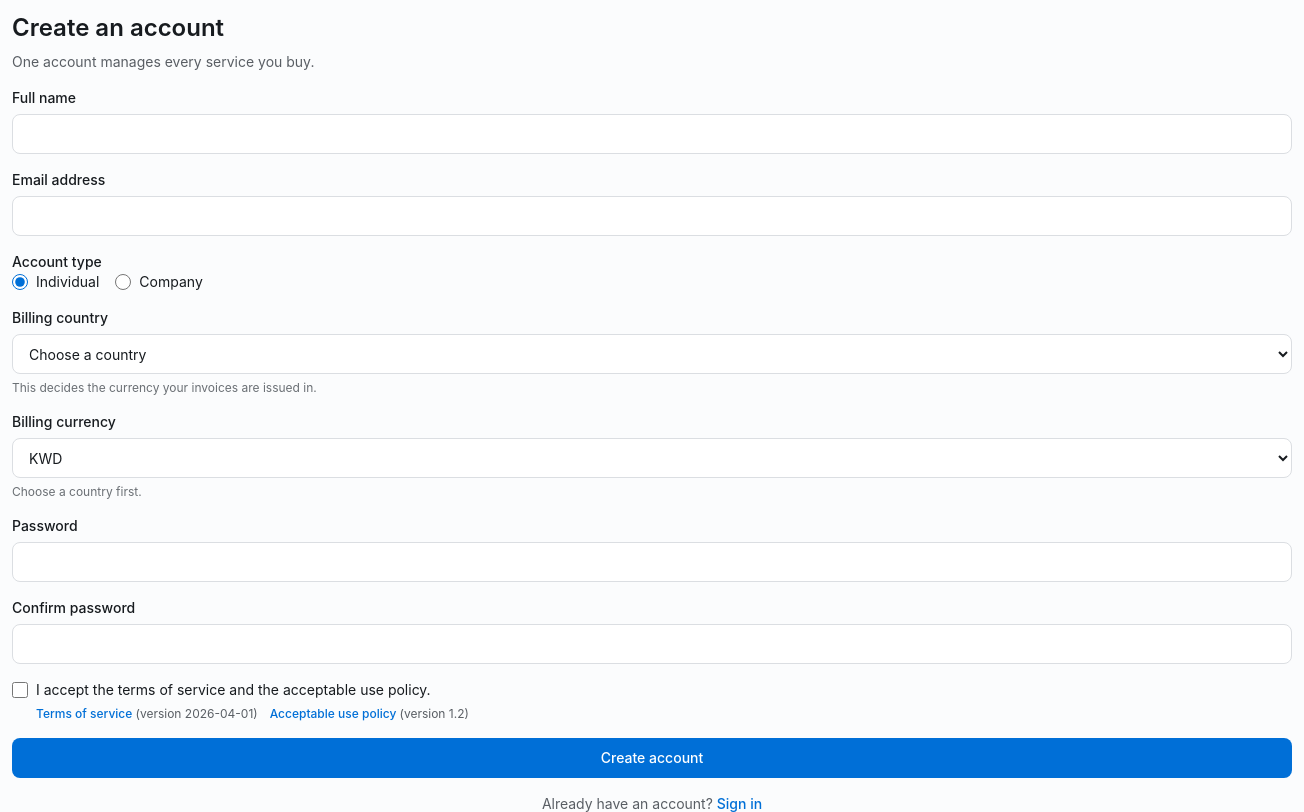
registration decides the currency out loud › says so when the country has no currency of its own here
The image size is (1304, 812).
Select "Japan" in the dropdown labelled "Billing country": point(652, 354) [12,334,1292,374]
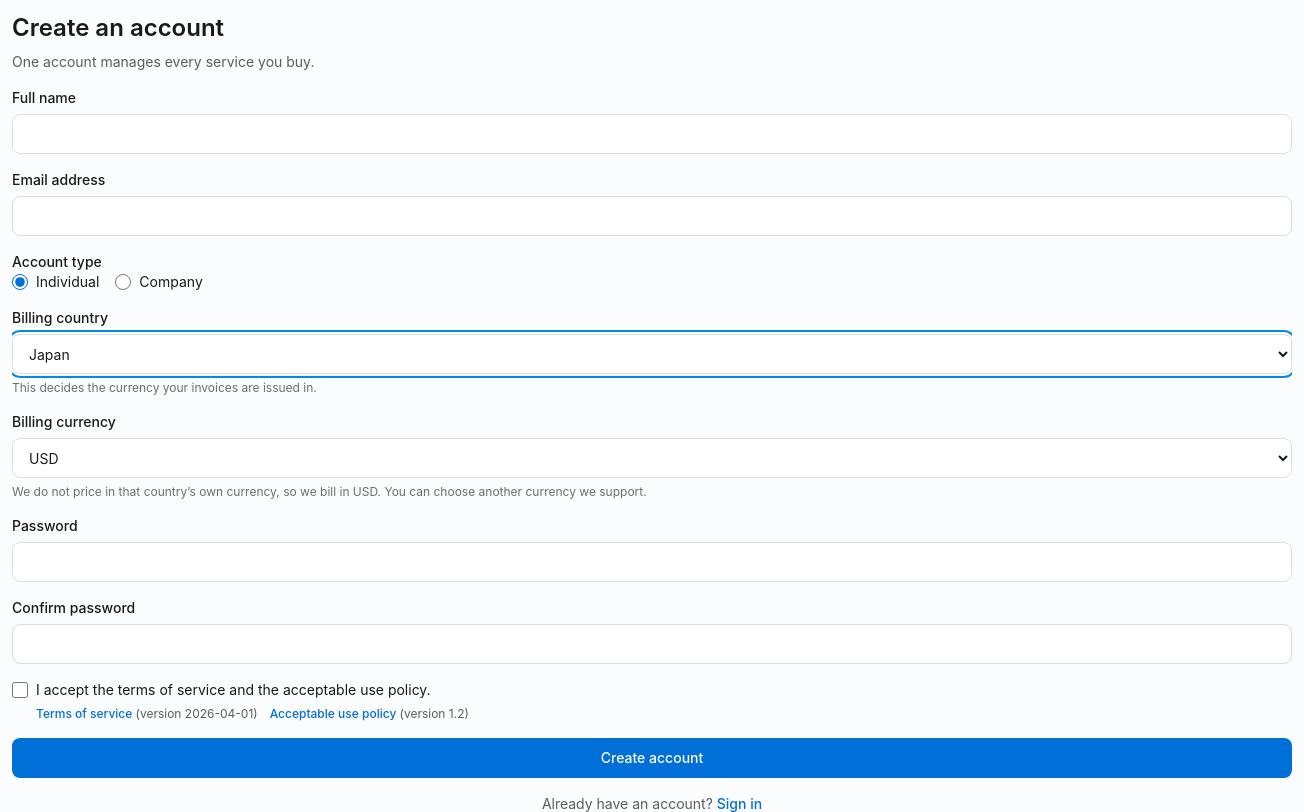
Expected: the dropdown labelled "Billing currency" shows "USD", [12,438,1292,478]
Expected: the text "do not price in that country" is shown, [12,484,647,499]
